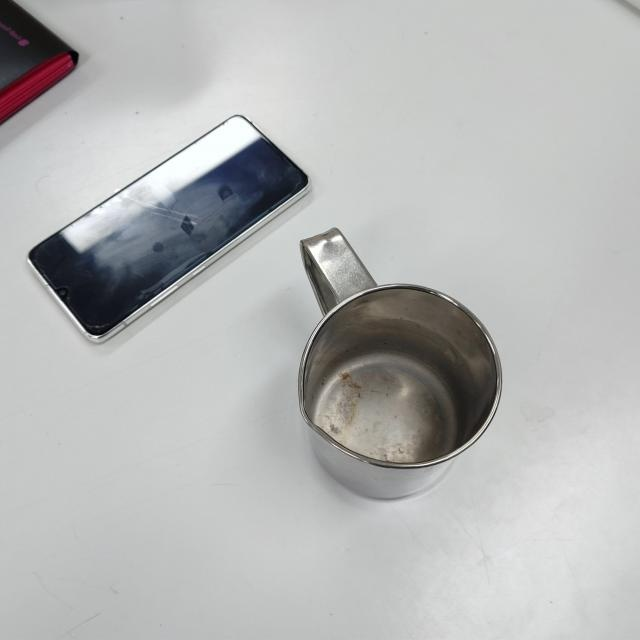cup: (293, 225, 507, 503)
phone: (27, 112, 309, 344)
